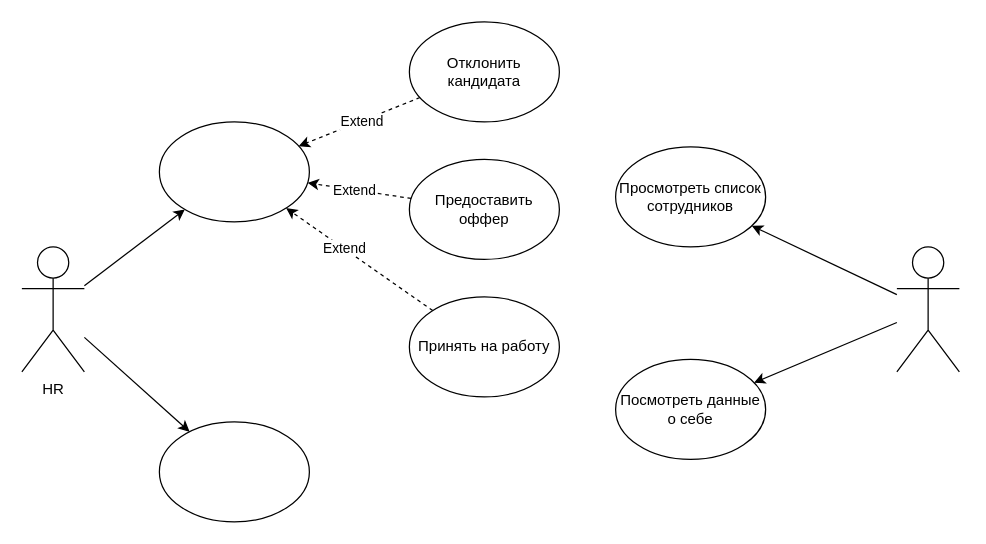
Some shapes in this 986 by 544 pixel diagram are drawn without their labels. The centre of each missing label's shape, as x and y in pixels:
Добавить каднидата: the point at 233,471
Посмотреть данные кандидата: the point at 233,171
Сотрудник: the point at 927,309
